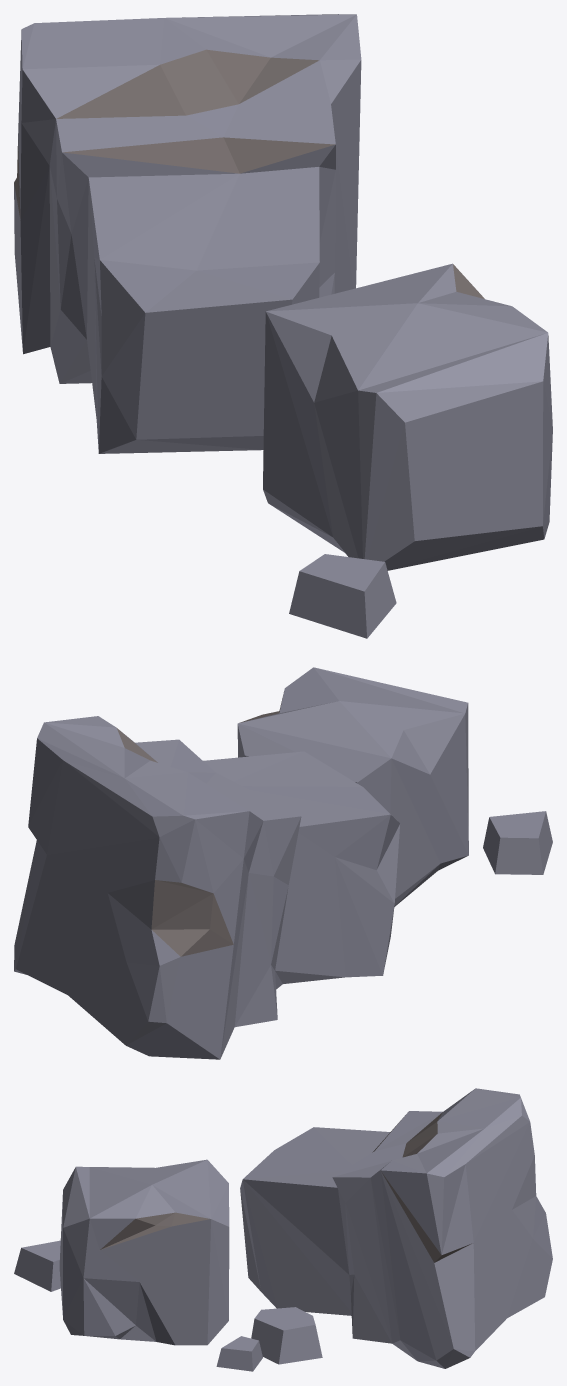
The model's file is Broken_pile_00.FBX.
The picture shows the model from 3 angles, top to bottom: view 1: azimuth 30°, elevation 25°; view 2: azimuth 150°, elevation 25°; view 3: azimuth 270°, elevation 25°; orthographic projection. The views are drawn at different scales.
Parts seen in each view (by area): view 1: Broken_pile_00; view 2: Broken_pile_00; view 3: Broken_pile_00.
Boxes of the visible parts, box(x1,y1,x2,y2) form: Broken_pile_00: box(14, 14, 552, 638); Broken_pile_00: box(14, 667, 552, 1059); Broken_pile_00: box(14, 1088, 552, 1371).
Size of the model in its own units: 17.42 by 14.37 by 35.13.
